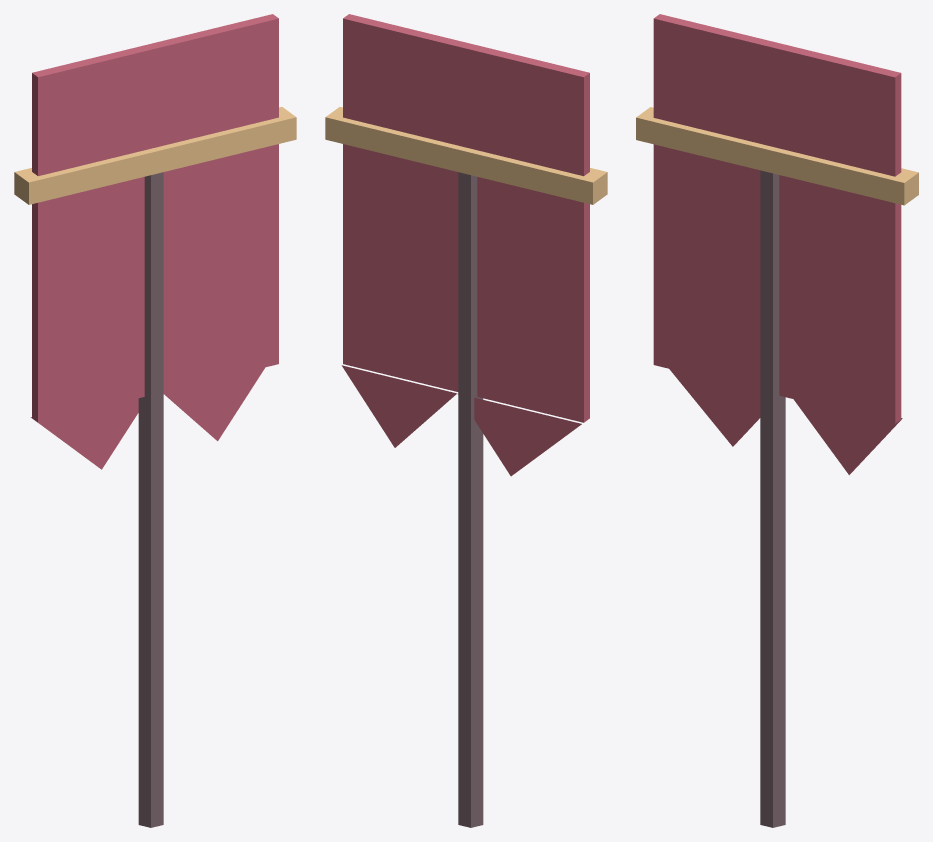
File: dojo_ritual_banner_lod1.gltf
The picture shows the model from 3 angles, left to right: view 1: azimuth 30°, elevation 25°; view 2: azimuth 150°, elevation 25°; view 3: azimuth 330°, elevation 25°; orthographic projection.
Parts seen in each view (by area): view 1: dojo_ritual_banner_lod1; view 2: dojo_ritual_banner_lod1; view 3: dojo_ritual_banner_lod1.
Part boxes in pixels (box(x1,y1,x2,y2)): dojo_ritual_banner_lod1: box(14, 14, 296, 827); dojo_ritual_banner_lod1: box(325, 14, 607, 827); dojo_ritual_banner_lod1: box(636, 14, 918, 827).
Bounding box in the file's own units: 3 × 8.3 × 0.28.
